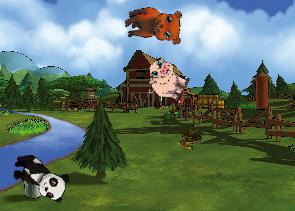bear: (122, 3, 185, 51)
panda: (6, 149, 73, 205)
pig: (140, 54, 194, 106)
